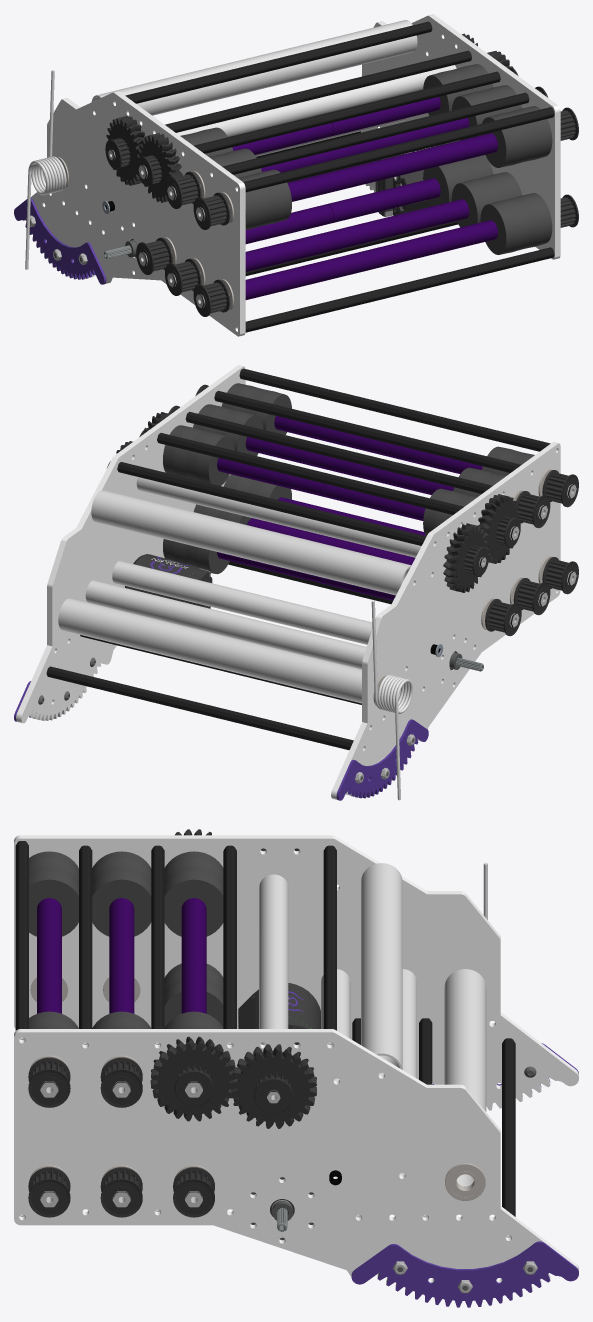
3 renders of one model, top to bottom at view 1: azimuth 30°, elevation 25°; view 2: azimuth 150°, elevation 25°; view 3: azimuth 270°, elevation 25°, orthographic. The views are drawn at different scales.
Visible parts, largest first — view 1: 3-20-Launcher Plate (×2), 3-27-Launcher Standoff (×7), 2" OD 1/2" Hex ID Stealth Wheel 60A (am-3155) (×16), Smaller Wheel Spacer (×8), 3D Printed Spacer (6.75") (×2), Larger Wheel Spacer (×4), 18t 15mm Wide 1/2" Hex Bore Double Flange 5mm HTD Aluminum P (×7), 3-28-Metal Sector Gear, 3-25-Launcher Front Gear, 3-24-Launcher Back Gear, 9271K124_Torsion Spring, Kraken X60 Motor; view 2: 3D Printed Spacer (6.75") (×5), 3-20-Launcher Plate (×2), 3-27-Launcher Standoff (×8), Smaller Wheel Spacer (×6), 2" OD 1/2" Hex ID Stealth Wheel 60A (am-3155) (×7), 18t 15mm Wide 1/2" Hex Bore Double Flange 5mm HTD Aluminum P (×5), Larger Wheel Spacer (×2), 3-28-Metal Sector Gear, 3-24-Launcher Back Gear, 3-25-Launcher Front Gear, 9271K124_Torsion Spring, Kraken X60 Motor; view 3: 3-20-Launcher Plate (×2), 3D Printed Spacer (6.75") (×5), 3-27-Launcher Standoff (×7), 2" OD 1/2" Hex ID Stealth Wheel 60A (am-3155) (×10), 18t 15mm Wide 1/2" Hex Bore Double Flange 5mm HTD Aluminum P (×5), 3-28-Metal Sector Gear, 3-24-Launcher Back Gear, Smaller Wheel Spacer (×4), 3-25-Launcher Front Gear, Larger Wheel Spacer (×2), Kraken X60 Motor, Thunderhex ID 1.125 OD Flanged Bearing (217-4006).
Part boxes in pixels (x1,y1,x2,y2): 3-20-Launcher Plate (×2): [30, 14, 560, 336]; 3-27-Launcher Standoff (×7): [125, 21, 554, 332]; 2" OD 1/2" Hex ID Stealth Wheel 60A (am-3155) (×16): [193, 64, 552, 254]; Smaller Wheel Spacer (×8): [232, 97, 497, 264]; 3D Printed Spacer (6.75") (×2): [91, 20, 456, 136]; Larger Wheel Spacer (×4): [245, 144, 391, 299]; 18t 15mm Wide 1/2" Hex Bore Double Flange 5mm HTD Aluminum P (×7): [136, 107, 578, 316]; 3-28-Metal Sector Gear: [14, 198, 106, 284]; 3-25-Launcher Front Gear: [137, 133, 182, 202]; 3-24-Launcher Back Gear: [105, 116, 144, 185]; 9271K124_Torsion Spring: [25, 70, 66, 269]; Kraken X60 Motor: [375, 143, 446, 216]; 3D Printed Spacer (6.75") (×5): [58, 477, 421, 703]; 3-20-Launcher Plate (×2): [16, 365, 560, 799]; 3-27-Launcher Standoff (×8): [46, 368, 550, 750]; Smaller Wheel Spacer (×6): [217, 416, 425, 584]; 2" OD 1/2" Hex ID Stealth Wheel 60A (am-3155) (×7): [163, 389, 463, 574]; 18t 15mm Wide 1/2" Hex Bore Double Flange 5mm HTD Aluminum P (×5): [485, 470, 578, 636]; Larger Wheel Spacer (×2): [352, 442, 482, 494]; 3-28-Metal Sector Gear: [336, 719, 428, 800]; 3-24-Launcher Back Gear: [443, 523, 489, 592]; 3-25-Launcher Front Gear: [478, 494, 520, 563]; 9271K124_Torsion Spring: [371, 600, 412, 800]; Kraken X60 Motor: [125, 554, 212, 608]; 3-20-Launcher Plate (×2): [14, 835, 578, 1293]; 3D Printed Spacer (6.75") (×5): [259, 863, 486, 1186]; 3-27-Launcher Standoff (×7): [15, 841, 515, 1237]; 2" OD 1/2" Hex ID Stealth Wheel 60A (am-3155) (×10): [29, 851, 223, 1028]; 18t 15mm Wide 1/2" Hex Bore Double Flange 5mm HTD Aluminum P (×5): [28, 1057, 214, 1217]; 3-28-Metal Sector Gear: [351, 1241, 578, 1307]; 3-24-Launcher Back Gear: [230, 1044, 316, 1128]; Smaller Wheel Spacer (×4): [37, 898, 206, 1013]; 3-25-Launcher Front Gear: [150, 1036, 236, 1121]; Larger Wheel Spacer (×2): [37, 898, 134, 973]; Kraken X60 Motor: [238, 983, 320, 1044]; Thunderhex ID 1.125 OD Flanged Bearing (217-4006): [445, 1163, 485, 1200].
Size of the model in its own units: 0.4176 by 0.2301 by 0.4298.
